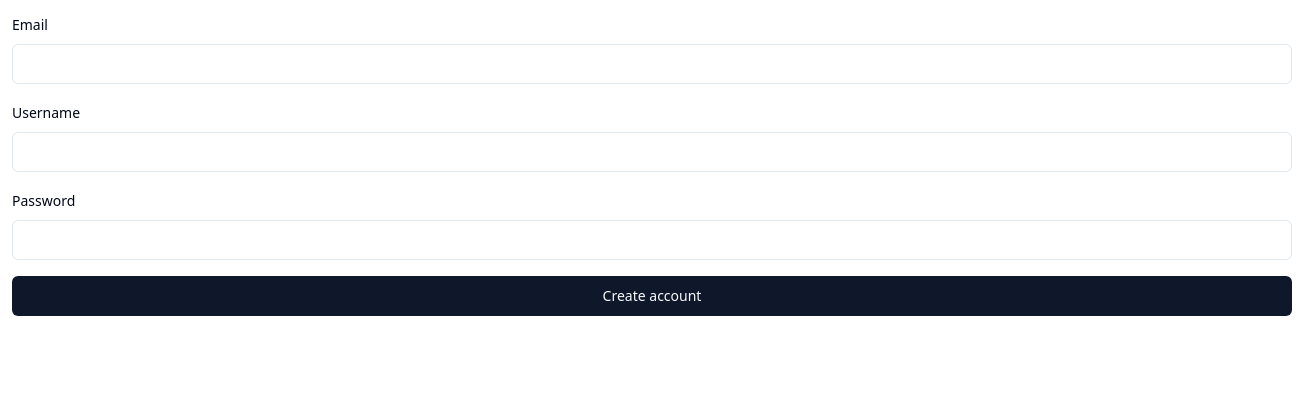
Test case: RegisterForm › shows the error message when registration fails
Type "bob@example.com" into the field labelled "Email". click: point(652, 64)
box: [12,44,1292,84]
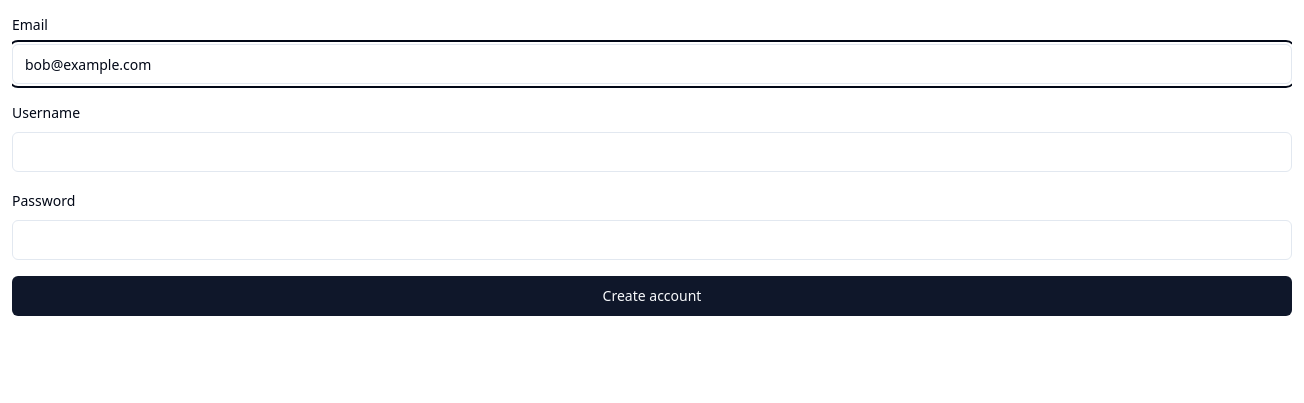
Type "bob" into the field labelled "Username". click: point(652, 152)
box: [12,132,1292,172]
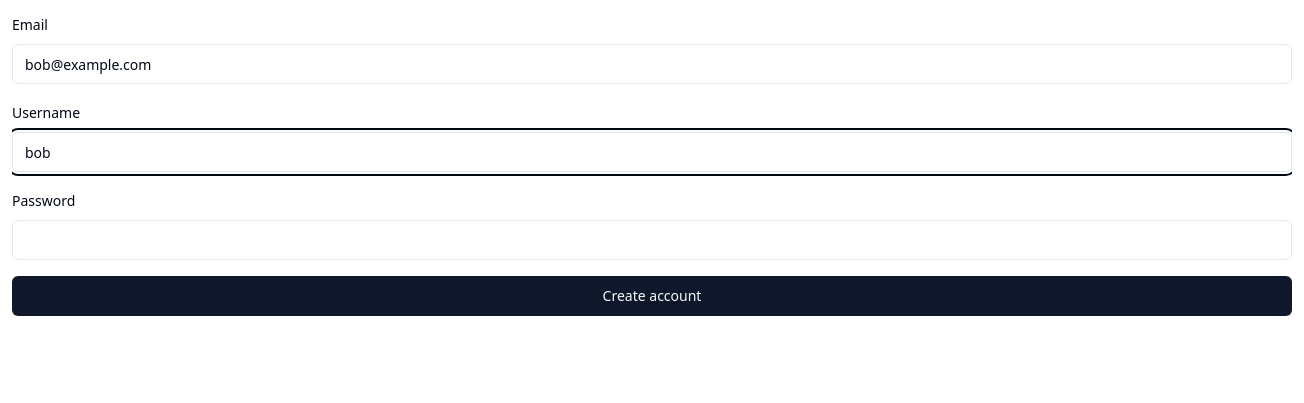
Type "correcthorse" into the password field labelled "Password". click: point(652, 240)
box: [12,220,1292,260]
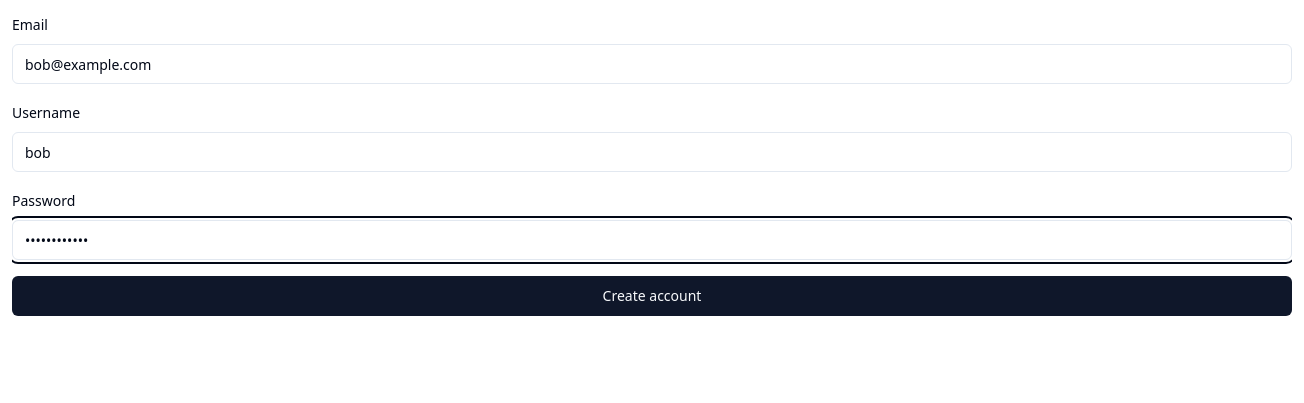
Click the button "Create account". click: point(652, 296)
box: [12,276,1292,316]
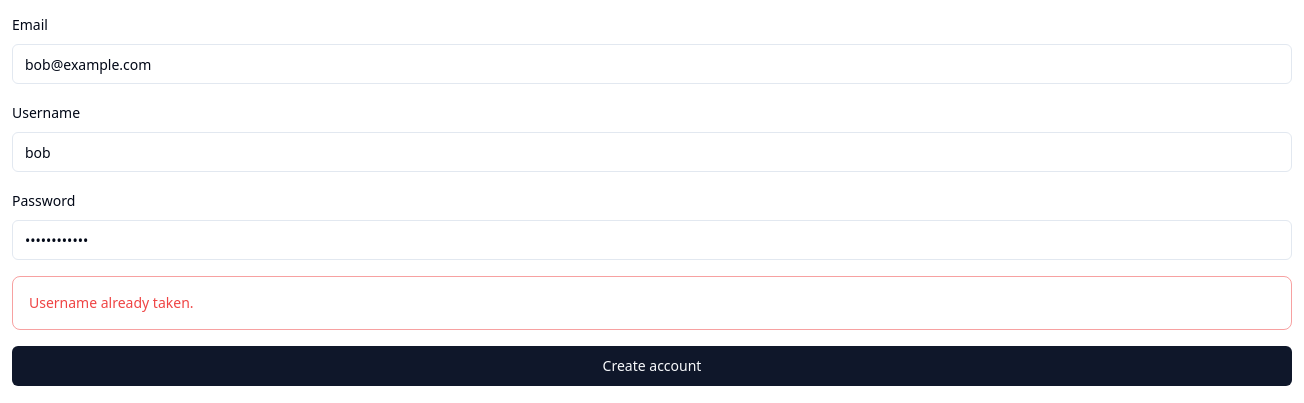
Now the message reads "Username already taken.", box [29,293,194,312]
